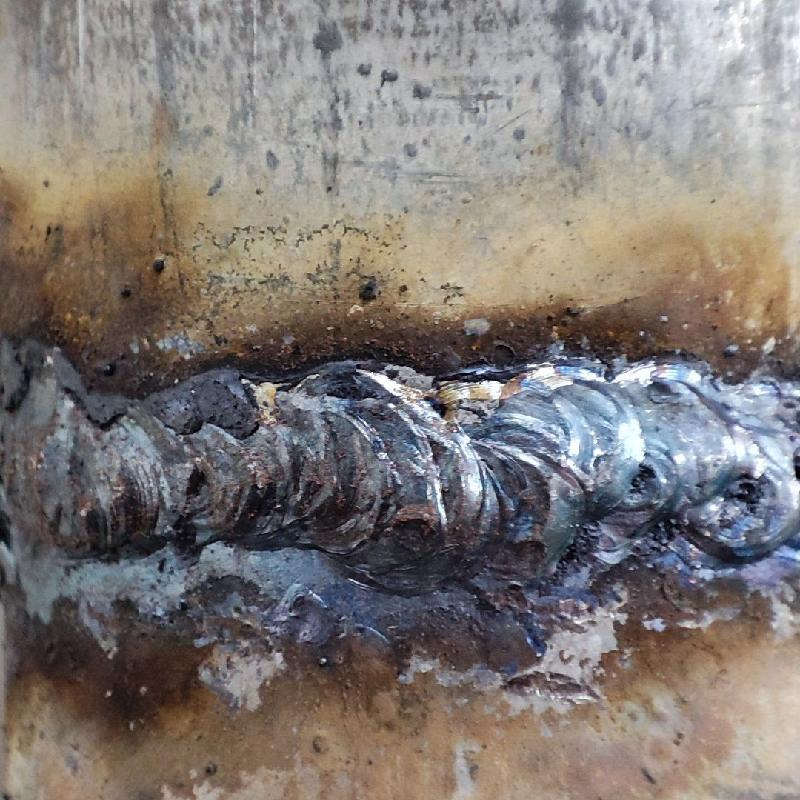Surface_pores: (168, 458, 222, 510), (725, 469, 764, 513)
good: (0, 329, 799, 577)
